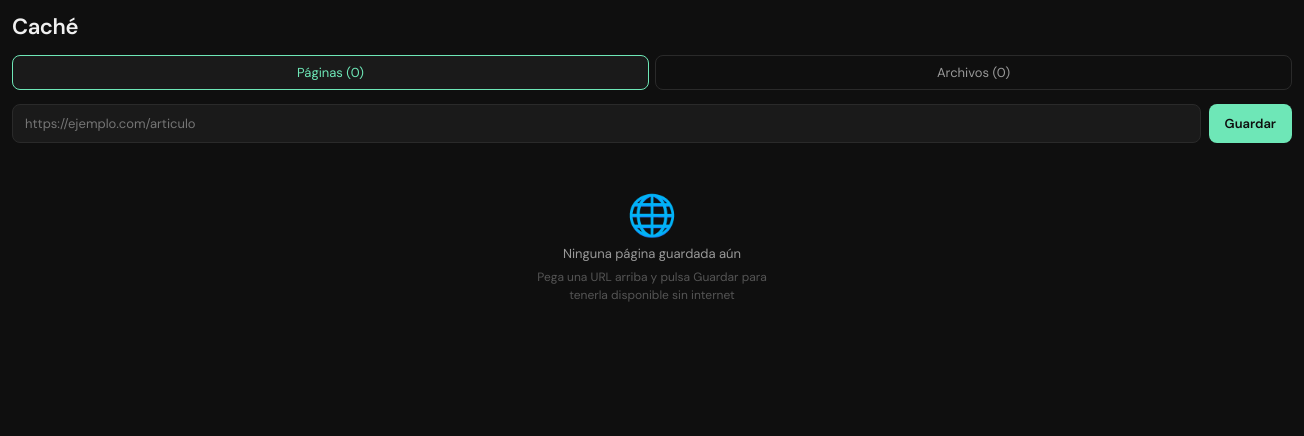
Scenario: CachePage › muestra estado vacío cuando no hay archivos
What coordinates should you click on to do the following:
click the button "Archivos (0)"
I would click on:
 (974, 72)
Its box is [655, 55, 1292, 90].
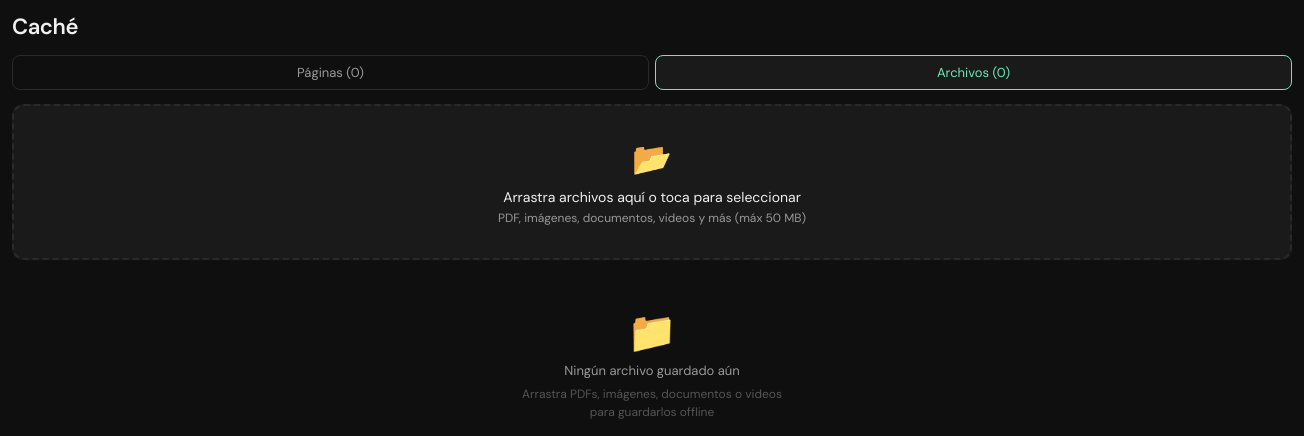
Now the text "Ningún archivo guardado aún" is shown, box [564, 362, 740, 379]
